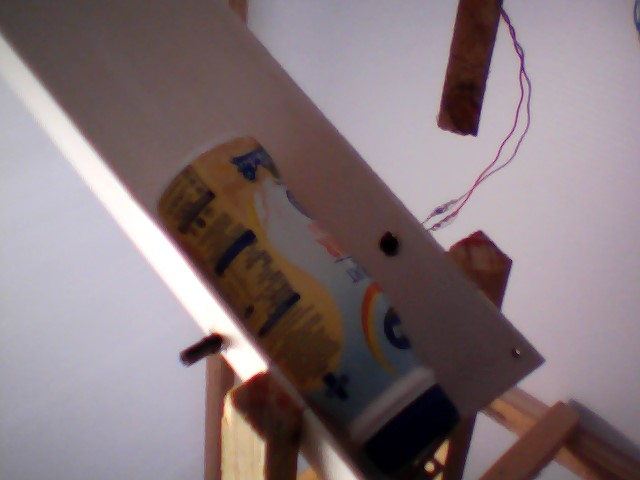plastico: (151, 128, 468, 480)
